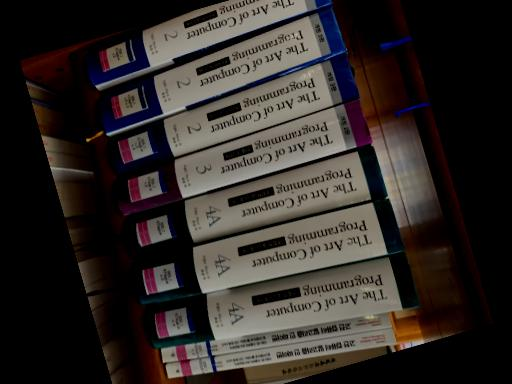book-spine: (97, 6, 346, 135), (113, 99, 371, 218), (107, 54, 358, 175), (124, 146, 387, 258), (132, 199, 404, 306), (144, 253, 419, 349), (84, 0, 331, 89), (164, 328, 395, 379), (159, 313, 392, 363)
